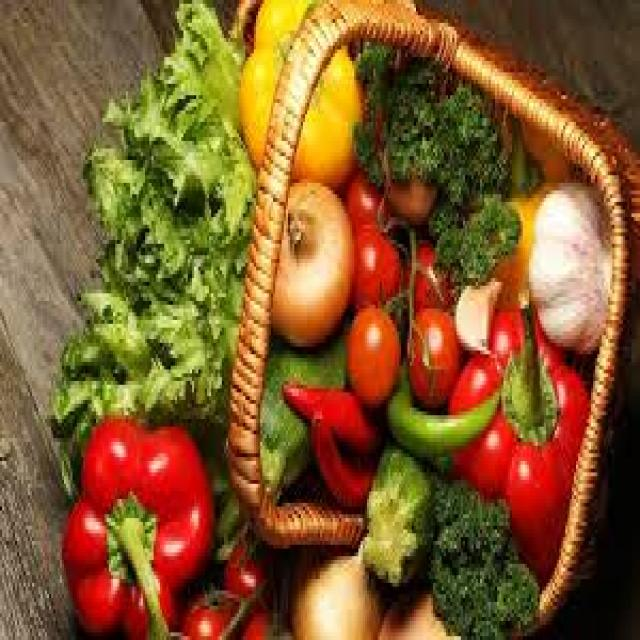organic waste: (44, 0, 346, 549), (448, 286, 587, 586), (352, 34, 518, 282), (60, 412, 211, 636), (237, 0, 360, 183), (465, 110, 568, 305), (431, 469, 535, 636), (265, 175, 352, 343), (527, 176, 608, 350), (384, 354, 501, 461), (360, 438, 429, 587), (288, 545, 386, 636), (279, 377, 380, 457), (343, 301, 397, 411), (309, 412, 372, 506), (382, 126, 437, 224), (406, 301, 456, 400), (350, 217, 401, 309), (222, 526, 275, 613), (454, 274, 502, 358), (376, 583, 452, 636), (403, 236, 446, 305), (181, 587, 239, 636), (348, 168, 382, 213), (244, 602, 278, 636)
